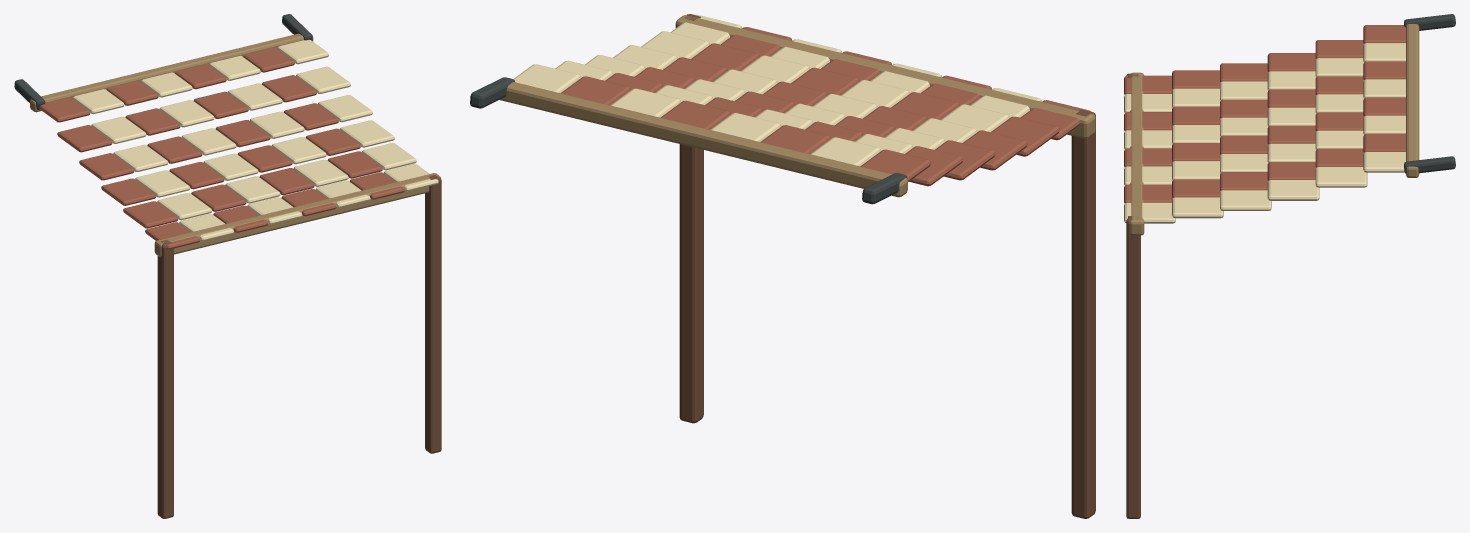
File: attachment_market_awning__attachments.glb
3 views of the same model, side by side, from view 1: azimuth 30°, elevation 25°; view 2: azimuth 150°, elevation 25°; view 3: azimuth 270°, elevation 25° (orthographic). The views are drawn at different scales.
Parts seen in each view (by area): view 1: attachment_market_awning__attachments__mesh_00; view 2: attachment_market_awning__attachments__mesh_00; view 3: attachment_market_awning__attachments__mesh_00.
Boxes of the visible parts, left/top/right/bottom form: attachment_market_awning__attachments__mesh_00: left=14, top=14, right=441, bottom=518; attachment_market_awning__attachments__mesh_00: left=470, top=14, right=1095, bottom=518; attachment_market_awning__attachments__mesh_00: left=1124, top=14, right=1455, bottom=518.
Size of the model in its own units: 2.15 by 2.4 by 2.01.
